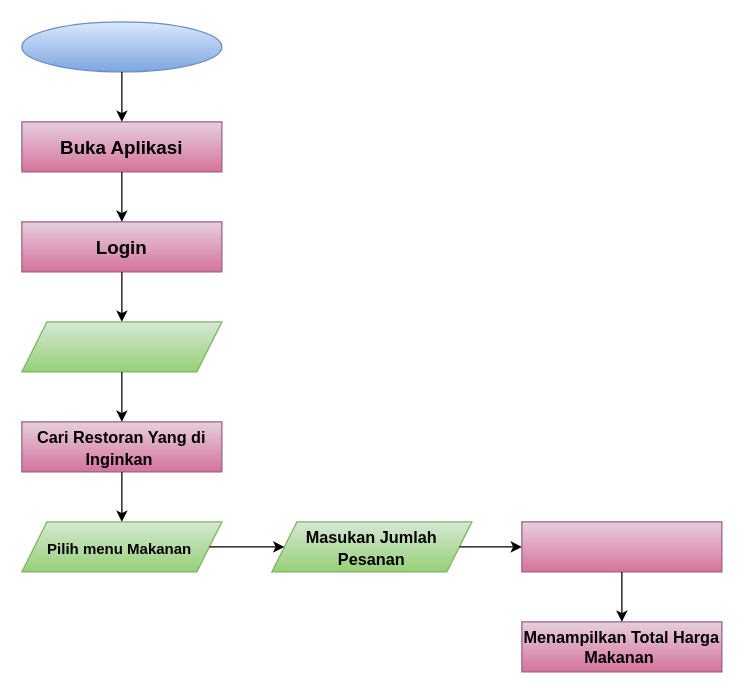
The diagram is 744 pixels wide and 694 high, and some of its shapes have lost their labels. Here are the shapes that lost their labels. From the top down, the centre of each, then its label:
[121,46]: START
[121,346]: Pilih Menu GO-FOOD
[621,546]: Total = Jumlah Makanan * Harga Makanan
